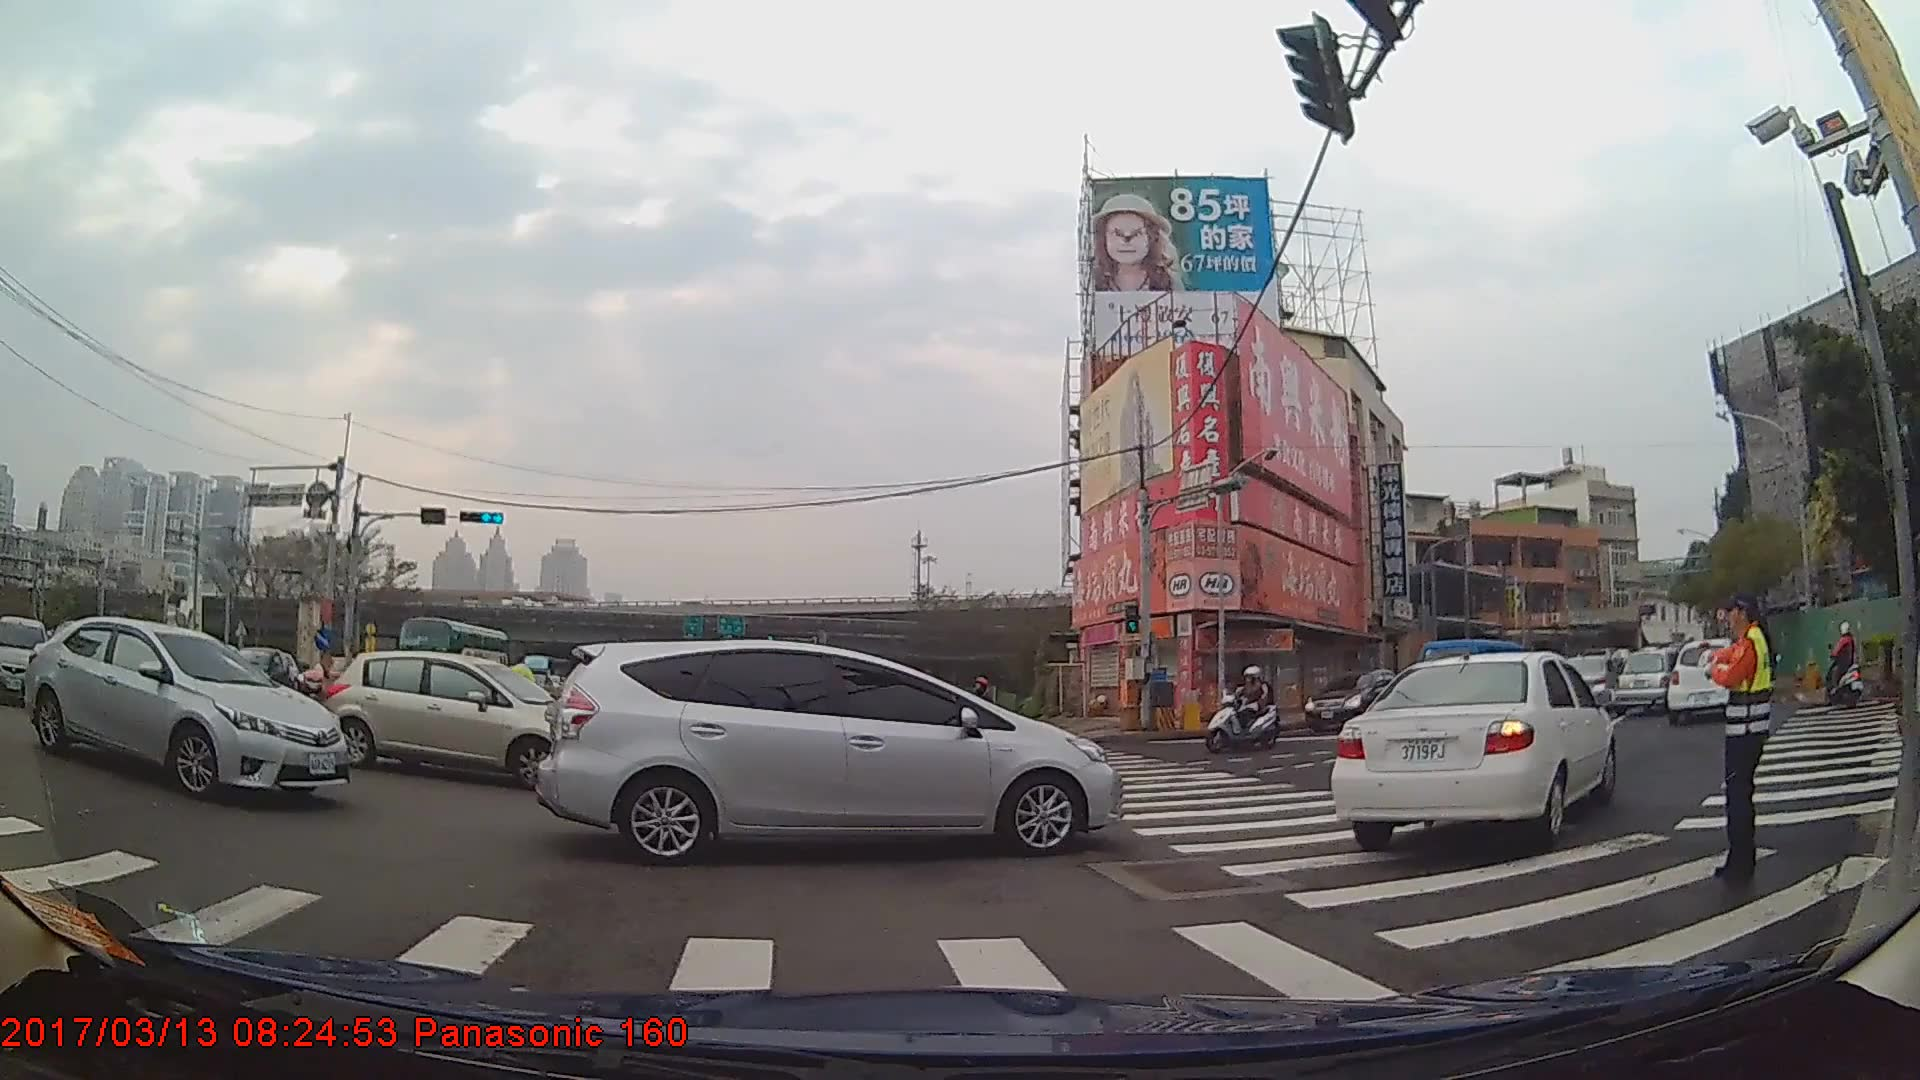pedestrian: (1704, 587, 1777, 886)
rider: (1206, 667, 1282, 755), (1823, 623, 1868, 709)
vehicle: (530, 637, 1123, 863), (18, 617, 347, 806), (1327, 648, 1618, 856), (320, 648, 592, 787), (395, 618, 507, 700), (1664, 637, 1746, 729), (1302, 672, 1402, 733), (1612, 646, 1688, 719)
